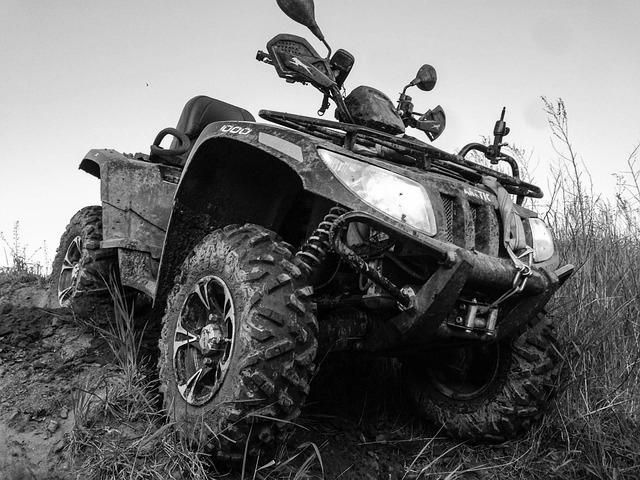Non_Gorille: (55, 14, 596, 479)
